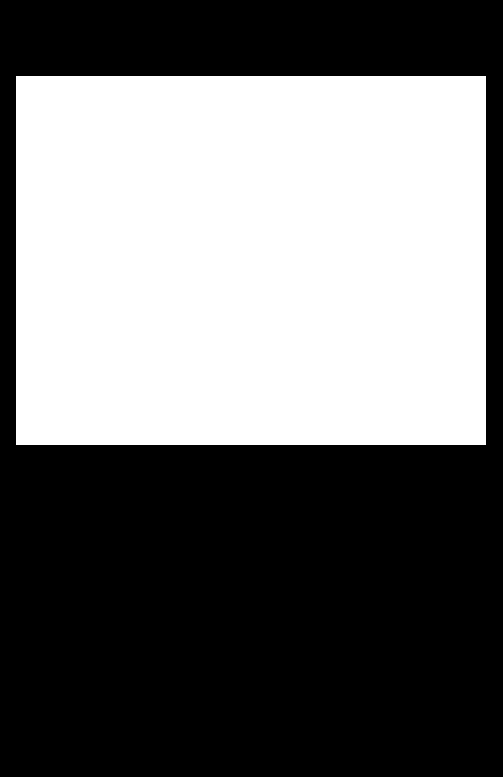table: (16, 76, 485, 444)
